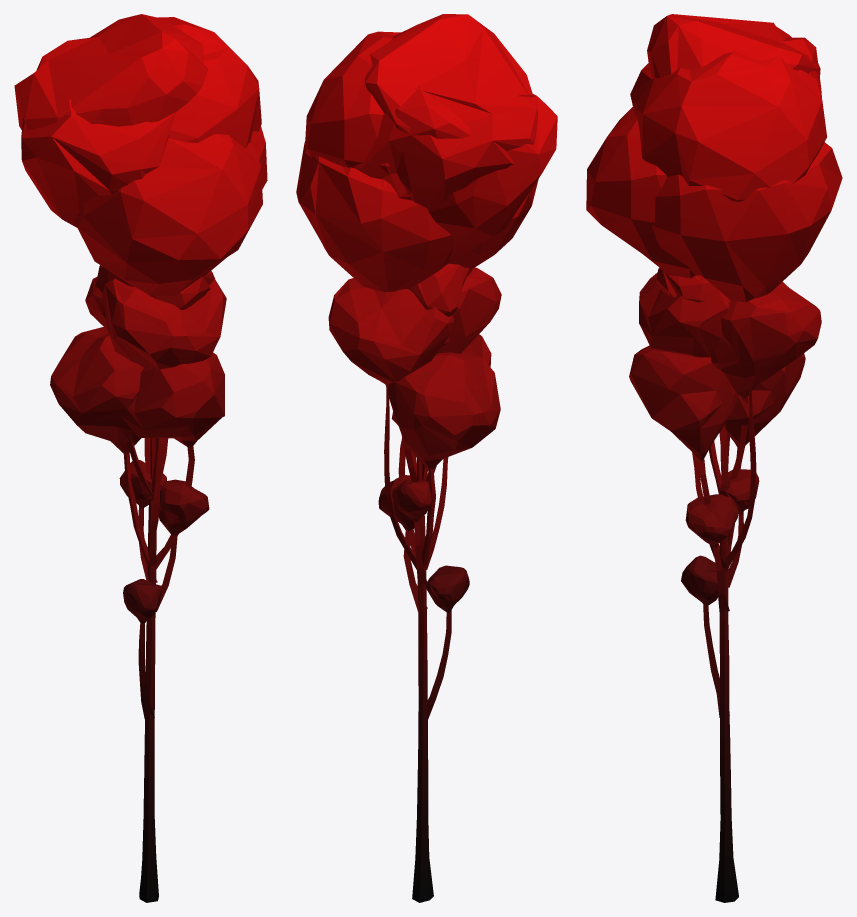
File: TreeBirch06.fbx
3 views of the same model, side by side, from view 1: azimuth 30°, elevation 25°; view 2: azimuth 150°, elevation 25°; view 3: azimuth 270°, elevation 25° (orthographic).
Visible parts, largest first — view 1: TreeBirch06_LOD0; view 2: TreeBirch06_LOD0; view 3: TreeBirch06_LOD0.
Part boxes in pixels (x1,y1,x2,y2): TreeBirch06_LOD0: (14, 14, 267, 902); TreeBirch06_LOD0: (296, 14, 557, 902); TreeBirch06_LOD0: (586, 14, 842, 902).
Size of what is drawn, in the model's own units: 352 by 1280 by 339.
